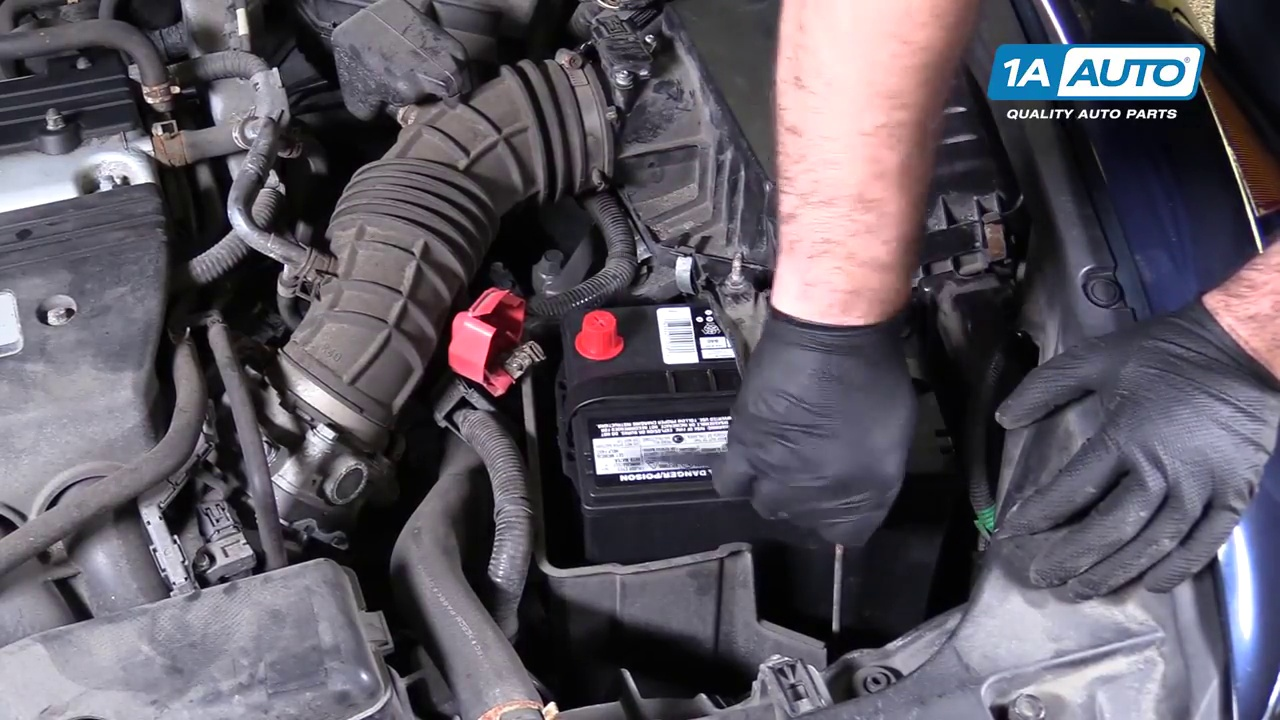battery: (554, 279, 966, 496)
pos_disconnected: (437, 268, 626, 392)
